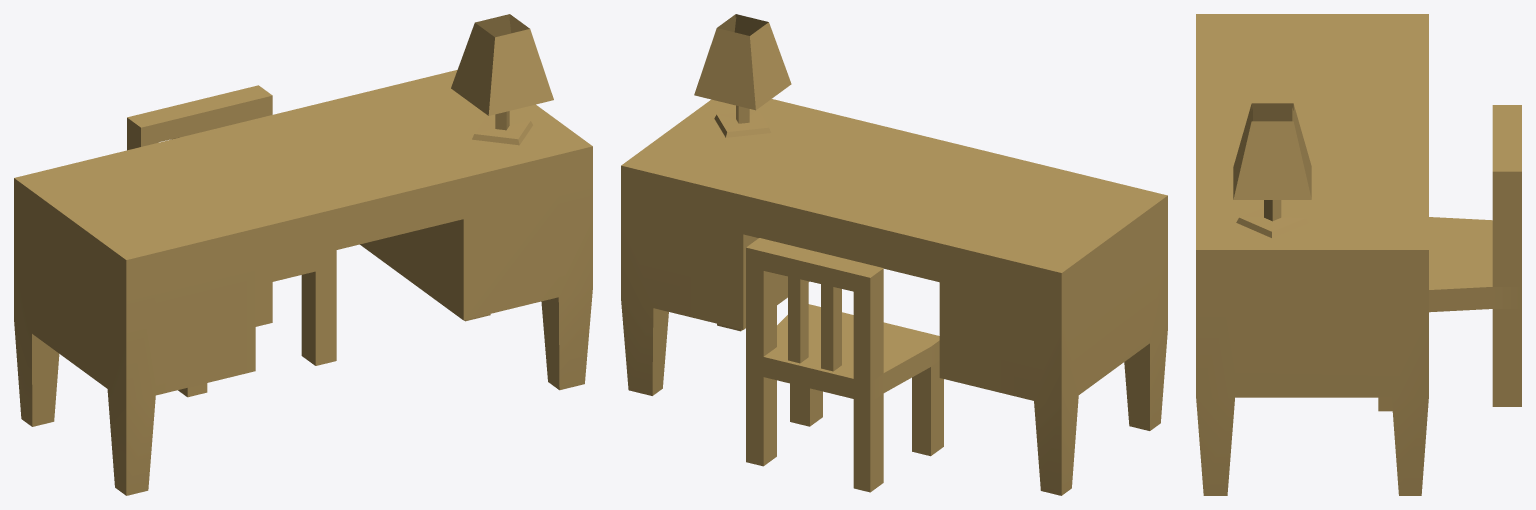
The model's file is Room_Desk.fbx.
The picture shows the model from 3 angles, left to right: view 1: azimuth 30°, elevation 25°; view 2: azimuth 150°, elevation 25°; view 3: azimuth 270°, elevation 25°; orthographic projection. The views are drawn at different scales.
Visible parts, largest first — view 1: polySurface4, Chair03; view 2: polySurface4, Chair03; view 3: polySurface4, Chair03.
Part boxes in pixels (x1,y1,x2,y2): polySurface4: (14, 14, 592, 495); Chair03: (127, 85, 336, 397); polySurface4: (621, 14, 1167, 495); Chair03: (746, 238, 943, 492); polySurface4: (1196, 14, 1428, 495); Chair03: (1378, 105, 1521, 411).
Size of the model in its own units: 2.14 by 1.51 by 1.25.
Materials: 1 (1 with a texture image).
